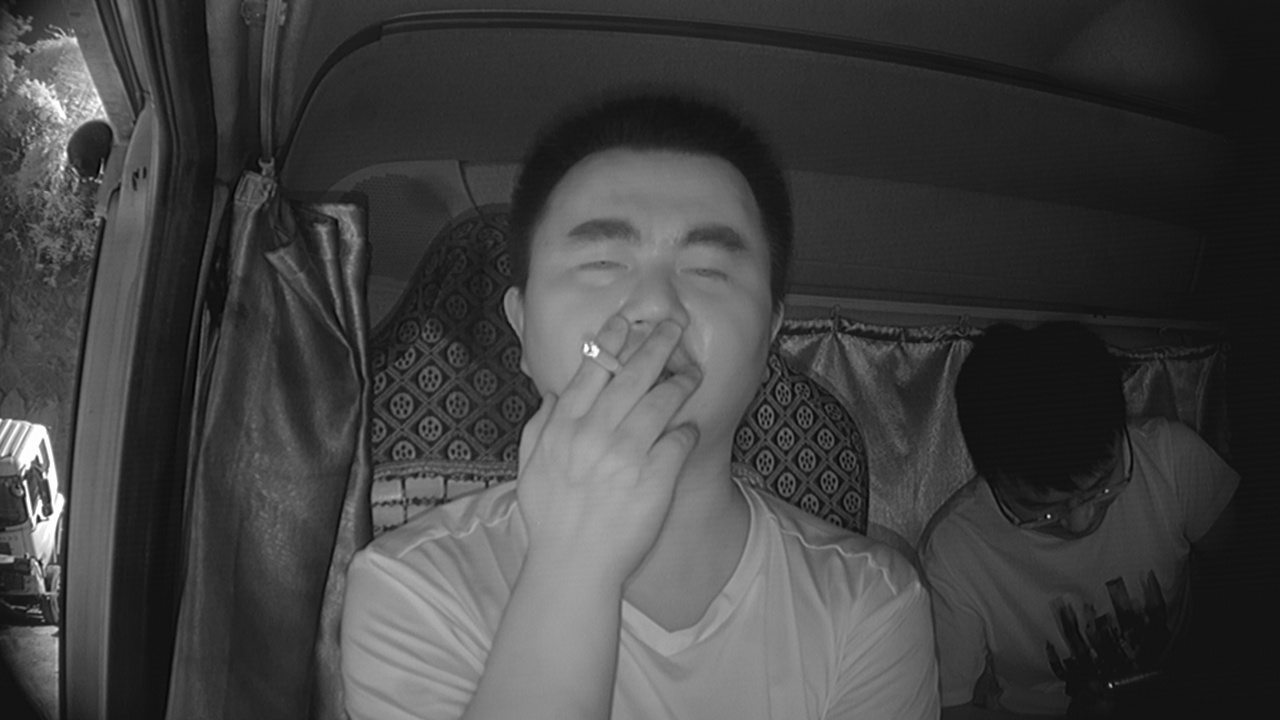hand: (529, 316, 698, 534)
